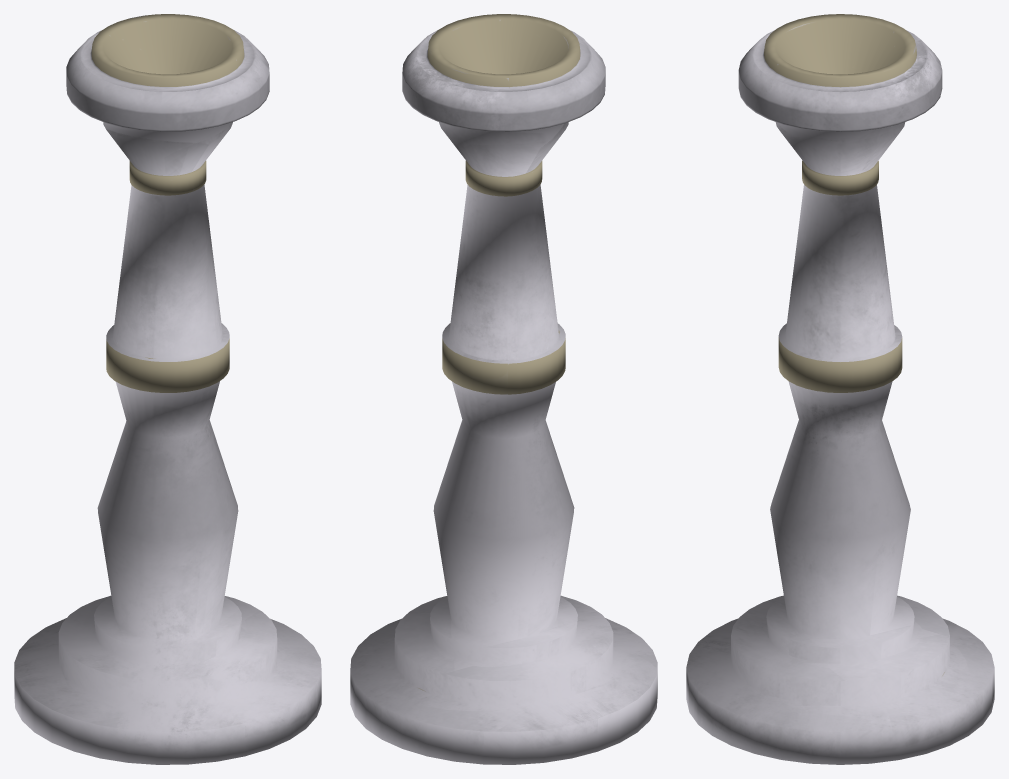
The model's file is ShortPillar.fbx.
The picture shows the model from 3 angles, left to right: view 1: azimuth 30°, elevation 25°; view 2: azimuth 150°, elevation 25°; view 3: azimuth 270°, elevation 25°; orthographic projection.
Parts seen in each view (by area): view 1: Actual Shorl Lowpoly; view 2: Actual Shorl Lowpoly; view 3: Actual Shorl Lowpoly.
Part boxes in pixels (left/top/right/bottom): Actual Shorl Lowpoly: left=14, top=14, right=321, bottom=764; Actual Shorl Lowpoly: left=350, top=14, right=657, bottom=764; Actual Shorl Lowpoly: left=686, top=14, right=994, bottom=764.
Bounding box in the file's own units: 77.53 × 182 × 77.53.
Materials: 1 (1 with a texture image).
